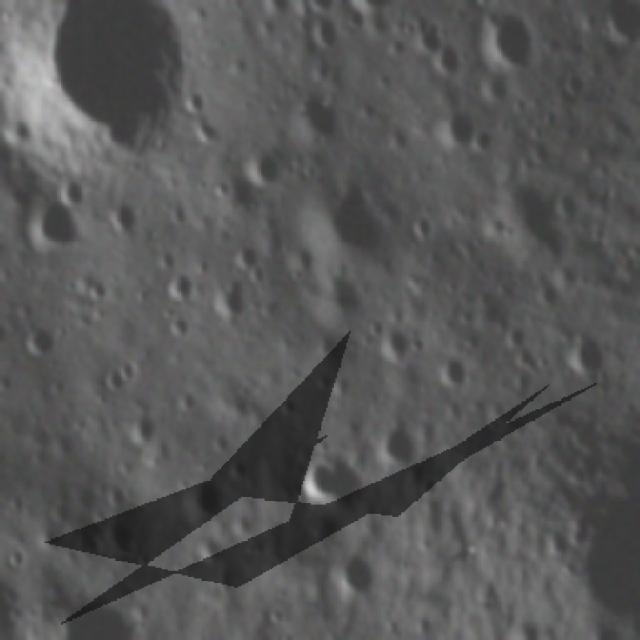crater: (33, 0, 204, 165), (478, 172, 576, 268), (298, 176, 398, 266), (476, 4, 544, 74), (46, 592, 140, 640), (298, 446, 362, 514), (21, 189, 82, 253), (328, 549, 380, 608), (180, 473, 229, 529), (294, 89, 341, 145), (376, 414, 422, 471), (314, 271, 366, 320), (564, 332, 608, 381), (371, 324, 418, 368), (211, 280, 252, 328), (127, 400, 164, 452), (434, 102, 474, 150), (101, 515, 142, 559), (96, 356, 138, 398), (436, 350, 476, 392), (242, 151, 284, 191), (412, 13, 448, 58), (470, 288, 510, 328), (52, 168, 90, 208), (159, 269, 199, 305), (556, 67, 592, 107), (25, 316, 57, 358), (181, 82, 213, 122), (109, 198, 142, 236), (162, 308, 198, 341), (435, 43, 467, 80), (411, 469, 444, 502), (307, 19, 341, 50), (413, 206, 439, 246), (77, 278, 115, 304), (532, 282, 560, 312), (302, 0, 340, 20)
